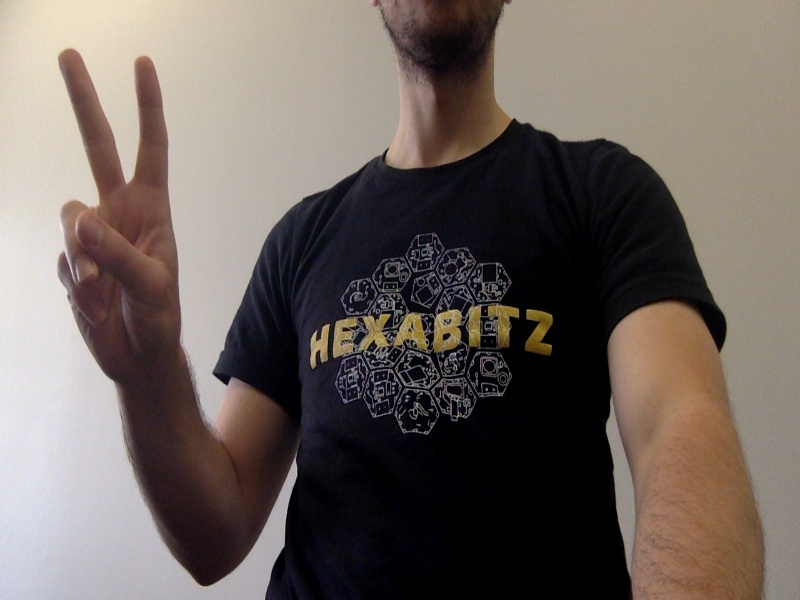2-hand: (51, 49, 178, 373)
